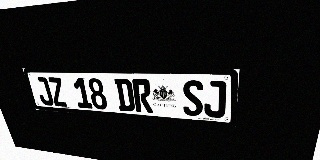1: (71, 78, 93, 109)
8: (87, 78, 108, 110)
D: (114, 79, 135, 112)
J: (204, 80, 226, 118), (34, 77, 55, 106)
R: (132, 79, 153, 113)
S: (182, 80, 203, 117)
Z: (47, 77, 68, 107)
